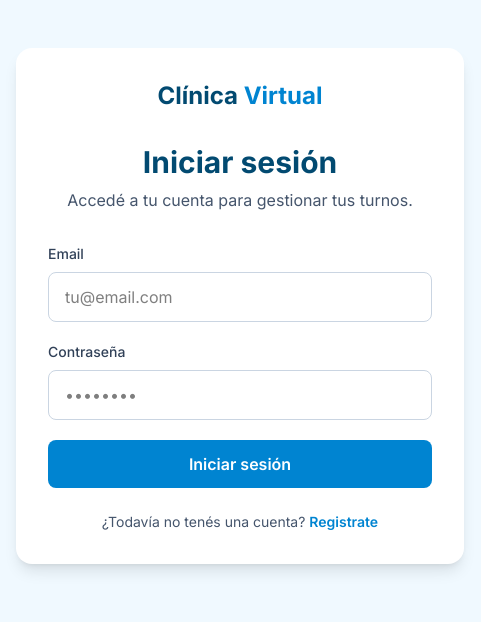
Login › muestra un mensaje legible cuando las credenciales son invalidas
The image size is (481, 622).
Type "ana@example.com" into the field labelled "Email" at (240, 297), box [48,272,432,322]
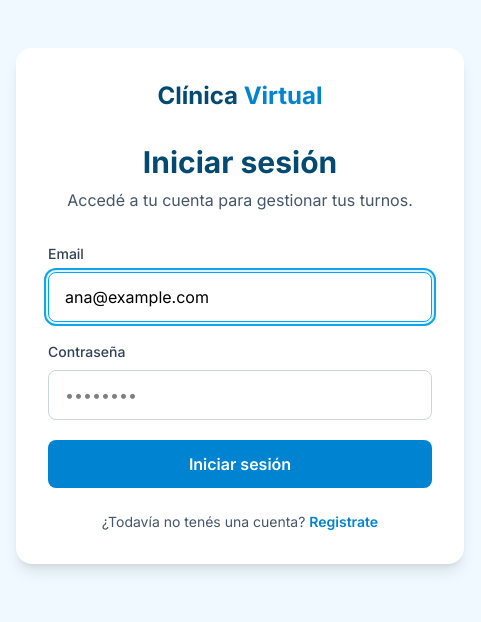
Type "Password123" into the password field labelled "Contraseña" at (240, 395), box [48,370,432,420]
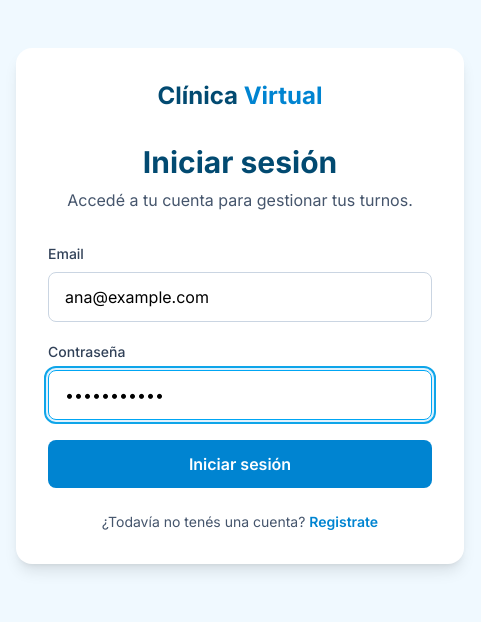
Click the button "Iniciar sesión" at (240, 464), box [48,440,432,488]
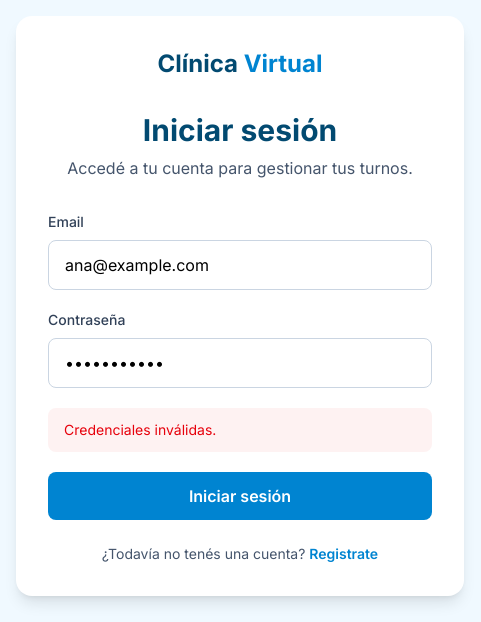
Expected: the message does not show "{\"detail\"", [48,408,432,452]
Expected: the message reads "Credenciales inválidas.", [64,421,216,438]
